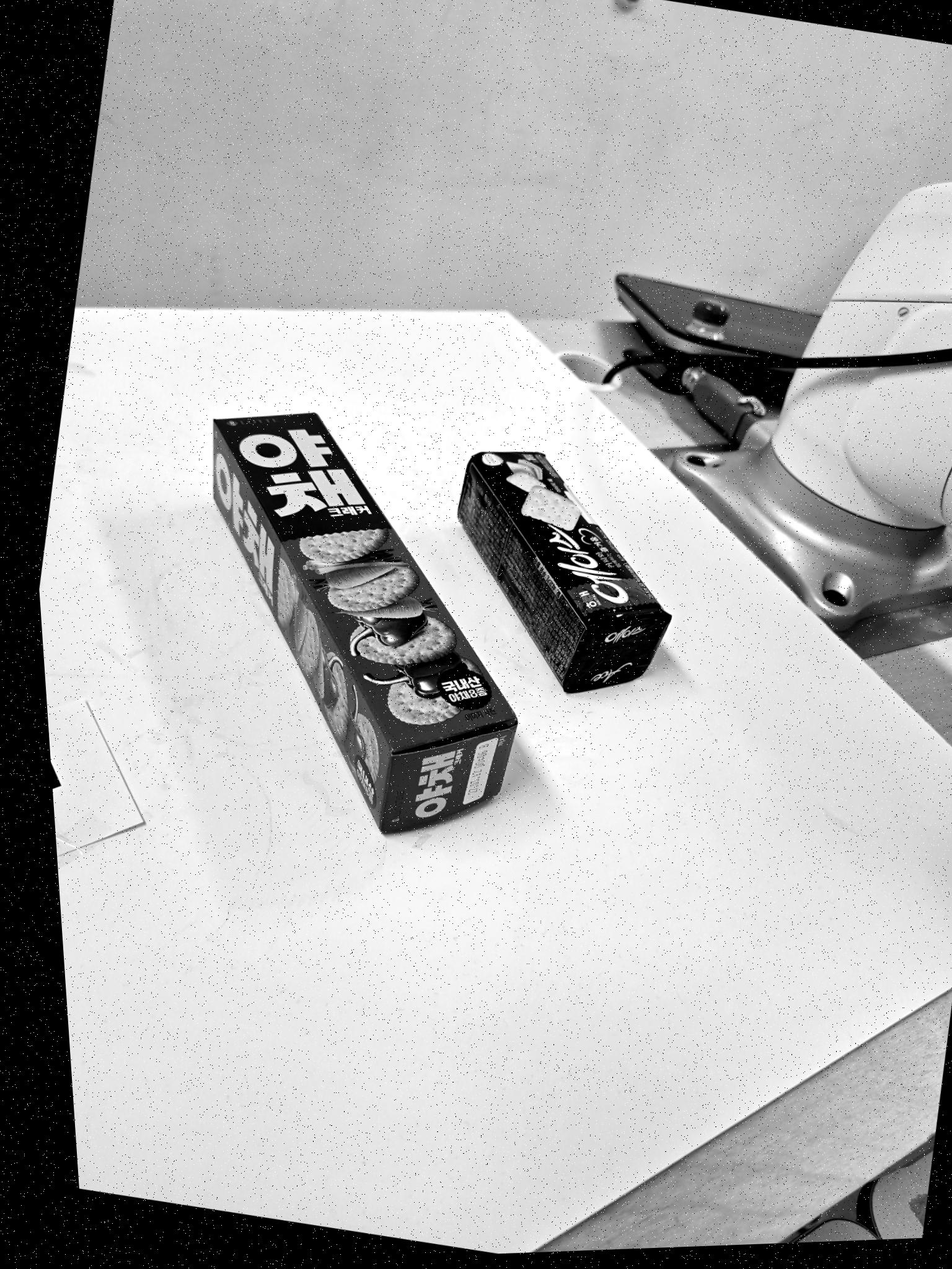cracker_ace: (458, 451, 671, 691)
cracker_vege: (213, 413, 517, 833)
